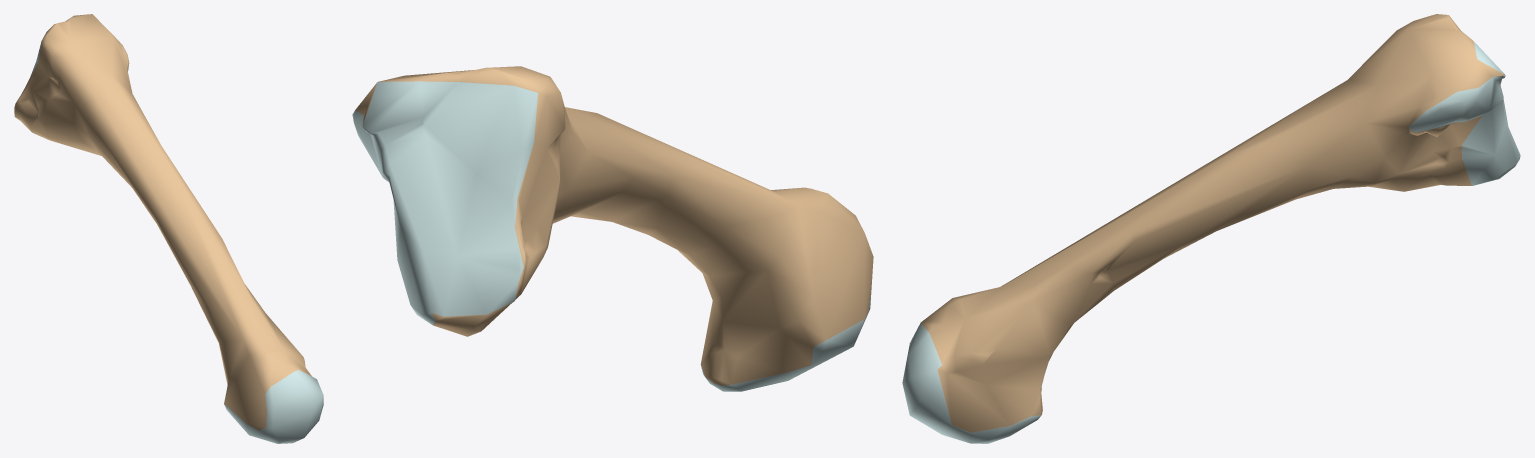
The model's file is 2d_metatarsal_bone.l_Generated_Mesh_From_X3D.931.glb.
The picture shows the model from 3 angles, left to right: view 1: azimuth 30°, elevation 25°; view 2: azimuth 150°, elevation 25°; view 3: azimuth 270°, elevation 25°; orthographic projection. The views are drawn at different scales.
Parts seen in each view (by area): view 1: 2d_metatarsal_bone.l_Generated_Mesh_From_X3D.931; view 2: 2d_metatarsal_bone.l_Generated_Mesh_From_X3D.931; view 3: 2d_metatarsal_bone.l_Generated_Mesh_From_X3D.931.
Boxes of the visible parts, bbox=[...] form: 2d_metatarsal_bone.l_Generated_Mesh_From_X3D.931: bbox=[14, 14, 323, 443]; 2d_metatarsal_bone.l_Generated_Mesh_From_X3D.931: bbox=[352, 66, 873, 391]; 2d_metatarsal_bone.l_Generated_Mesh_From_X3D.931: bbox=[902, 14, 1520, 443].
Size of the model in its own units: 0.0174 by 0.0499 by 0.0705.
